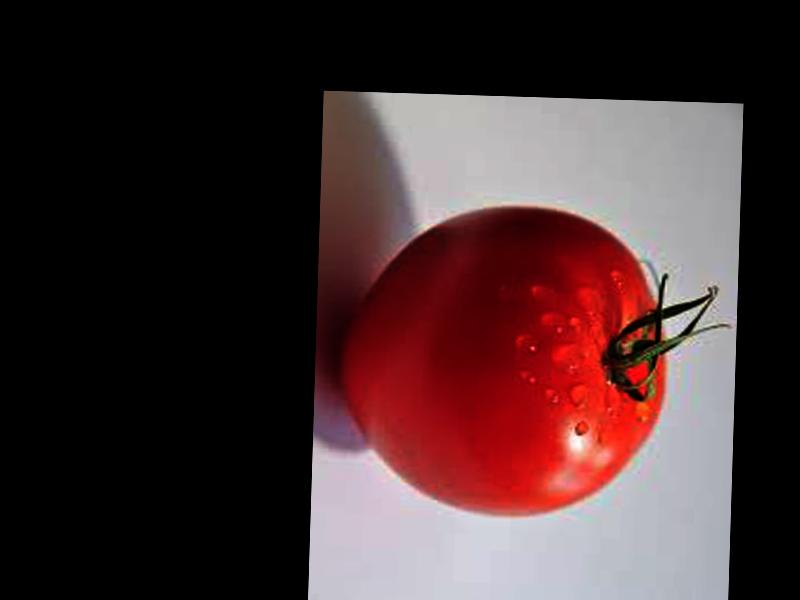Tomato: (335, 203, 666, 521)
